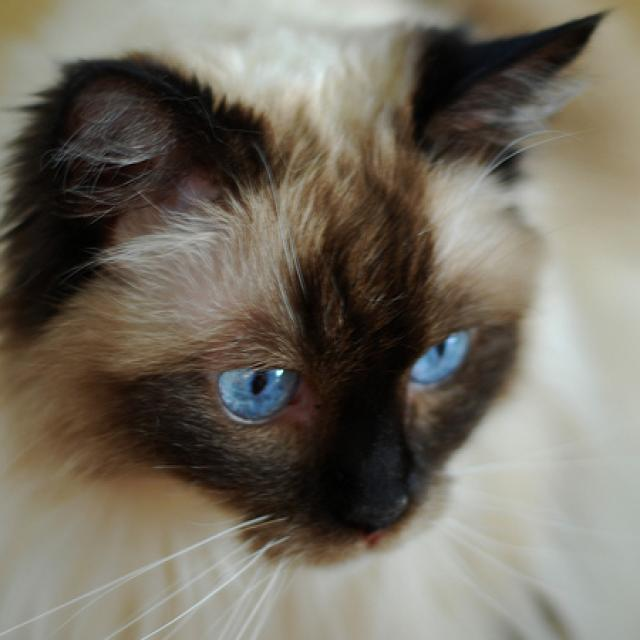Birman: (0, 4, 613, 640)
